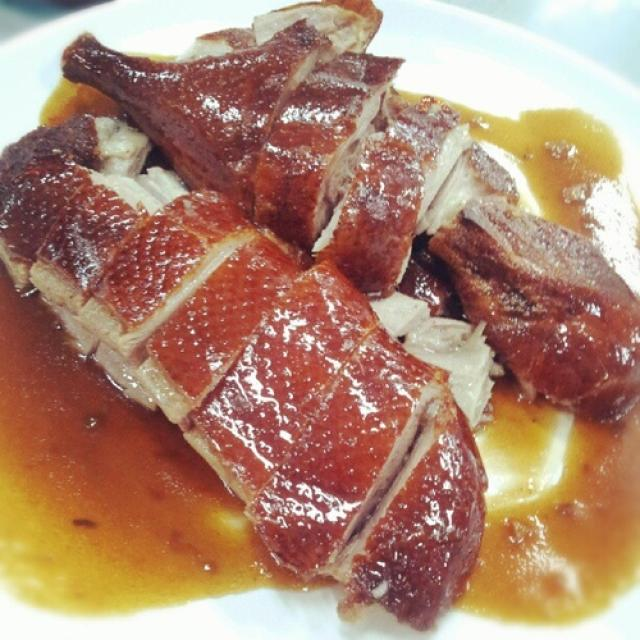烧串烤肉: (13, 26, 617, 610)
